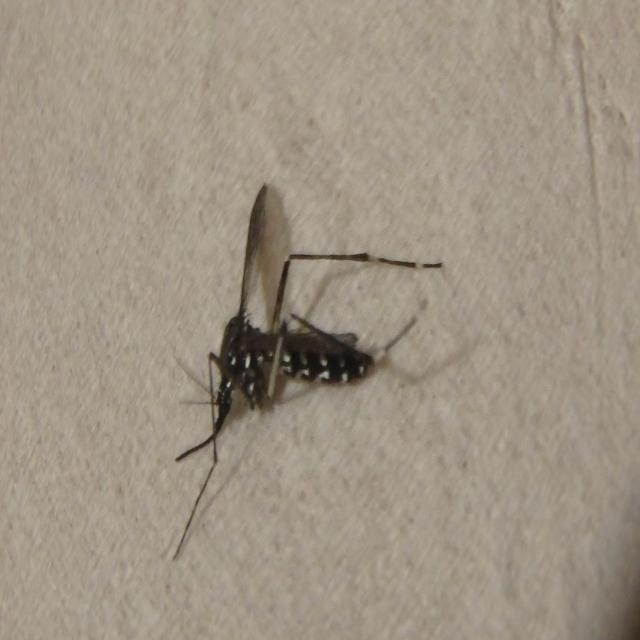albopictus: (167, 152, 444, 494)
